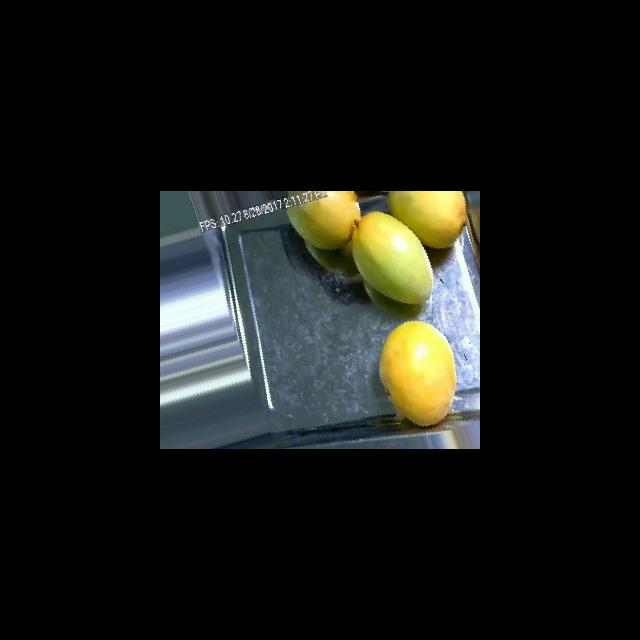Mango: (378, 320, 456, 427), (351, 210, 433, 304), (387, 191, 467, 249), (285, 191, 360, 250)
